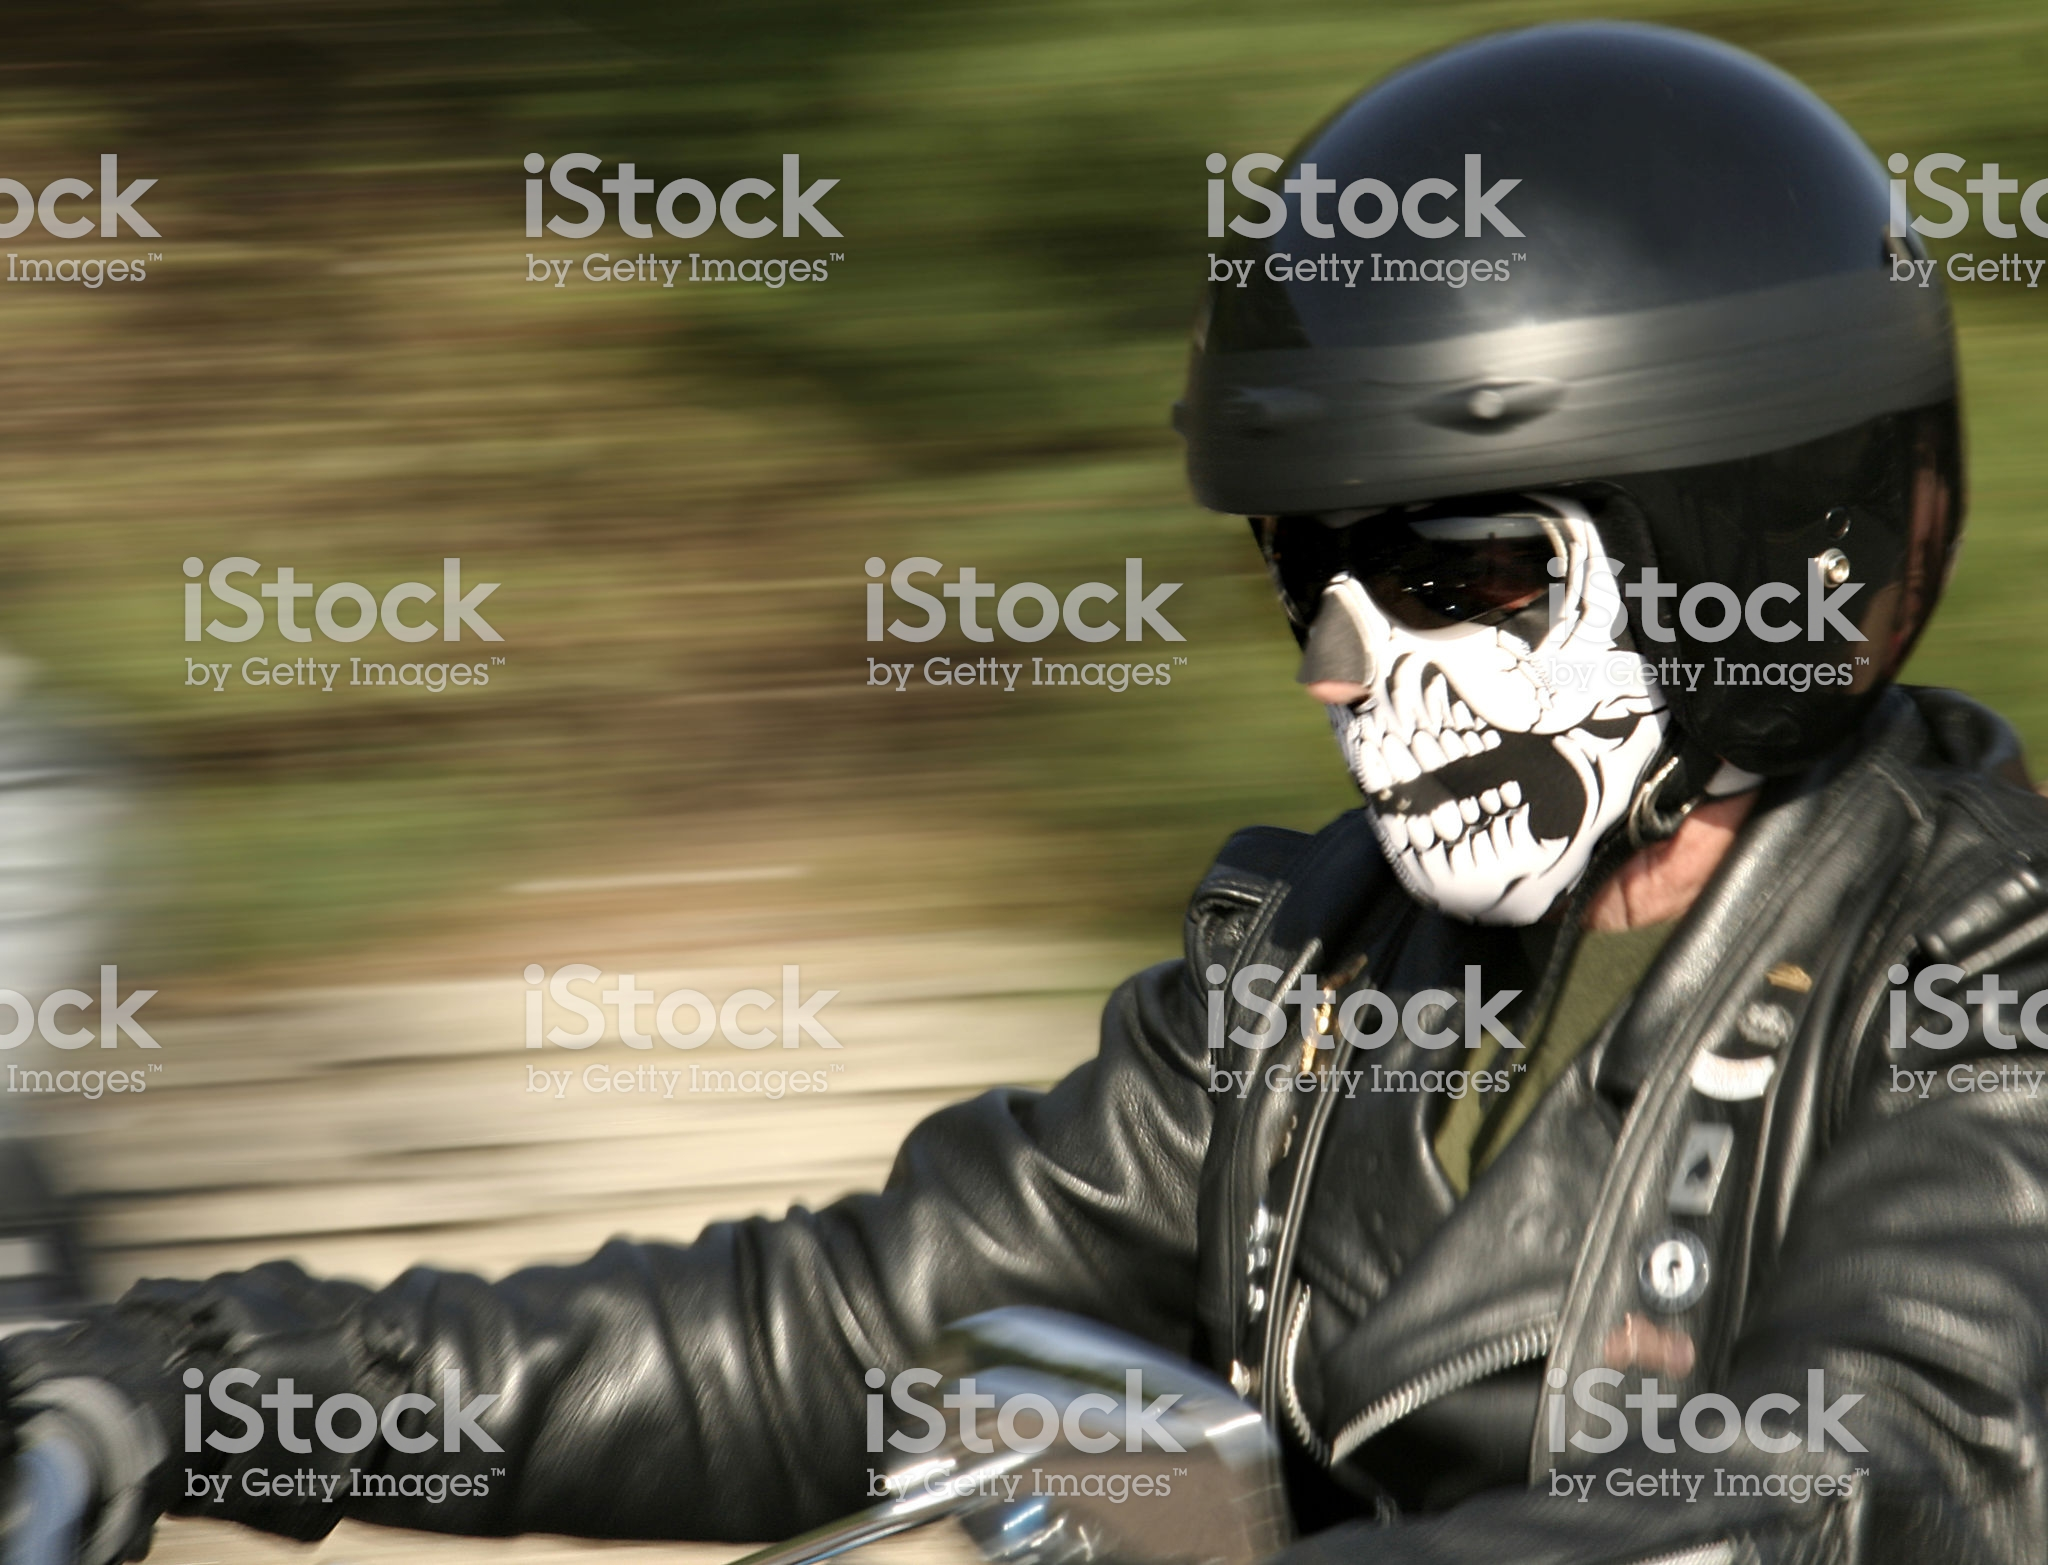helmet: (1164, 61, 1946, 547)
